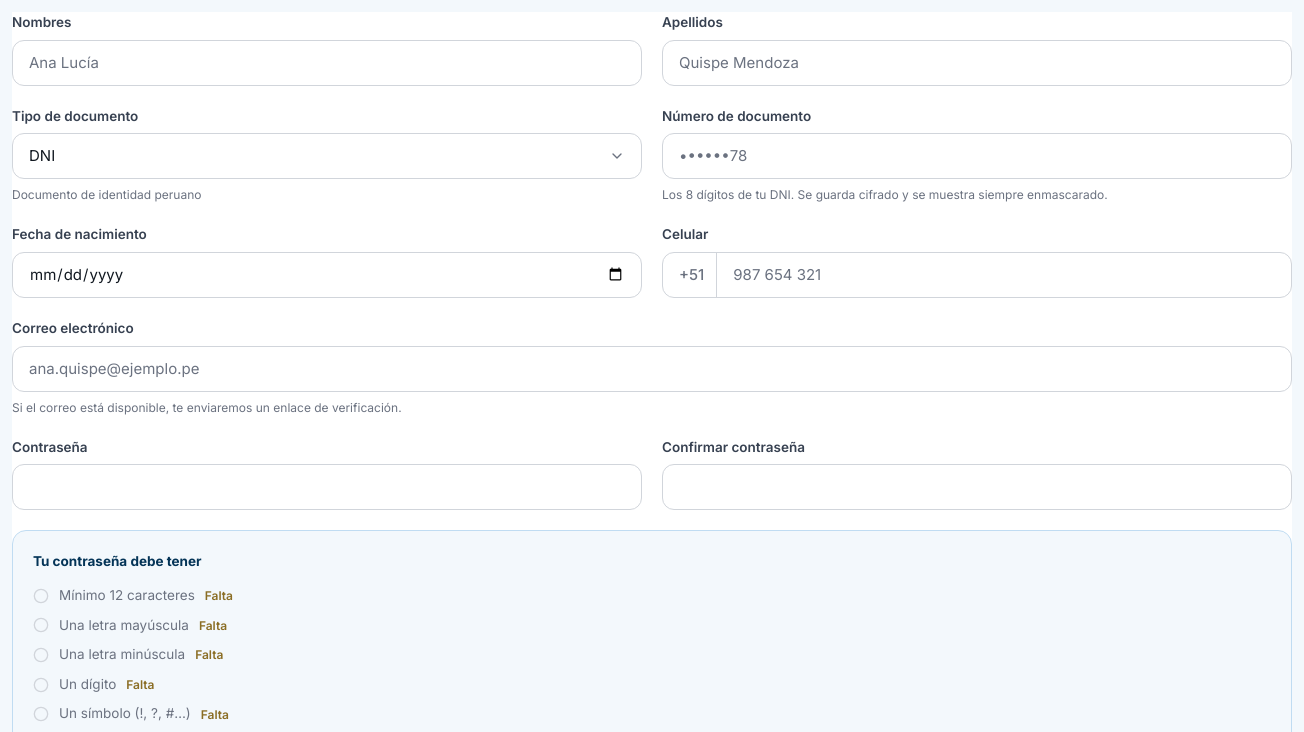
Formulario de registro · HU-01 › marca los requisitos según se van cumpliendo
Type "Cont!rasena2026#" into the password field labelled "Contraseña". click: (327, 487)
box: 13,475 -> 641,499
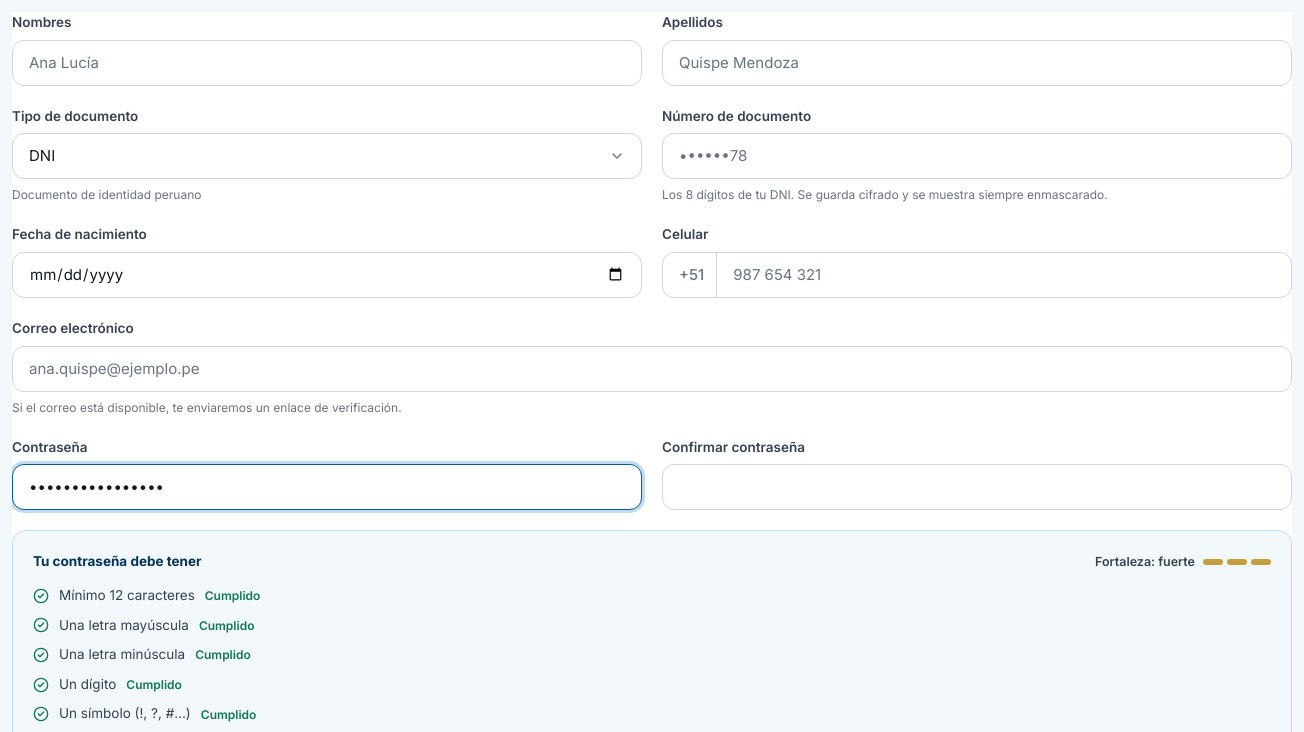
expect the text "Cumplido" is shown 5 times: met, box 205,586 -> 260,605; 199,616 -> 254,635; 195,645 -> 251,664; 126,675 -> 182,694; 201,704 -> 256,724
expect the text "Falta" is gone: met
expect the text "Fortaleza: fuerte" is shown: met, box 1095,552 -> 1271,572
